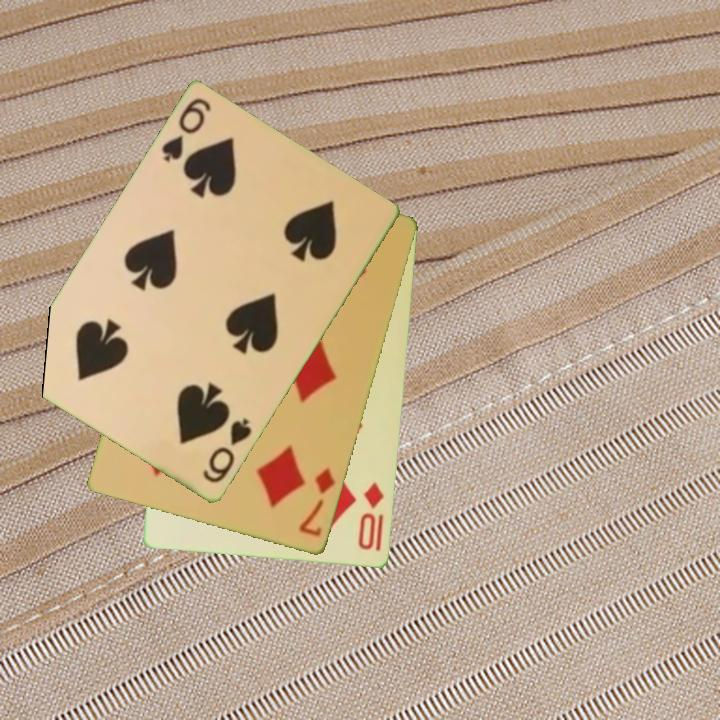10d: (355, 479, 387, 554)
6s: (199, 415, 255, 487), (158, 95, 214, 166)
7d: (296, 464, 339, 540)
